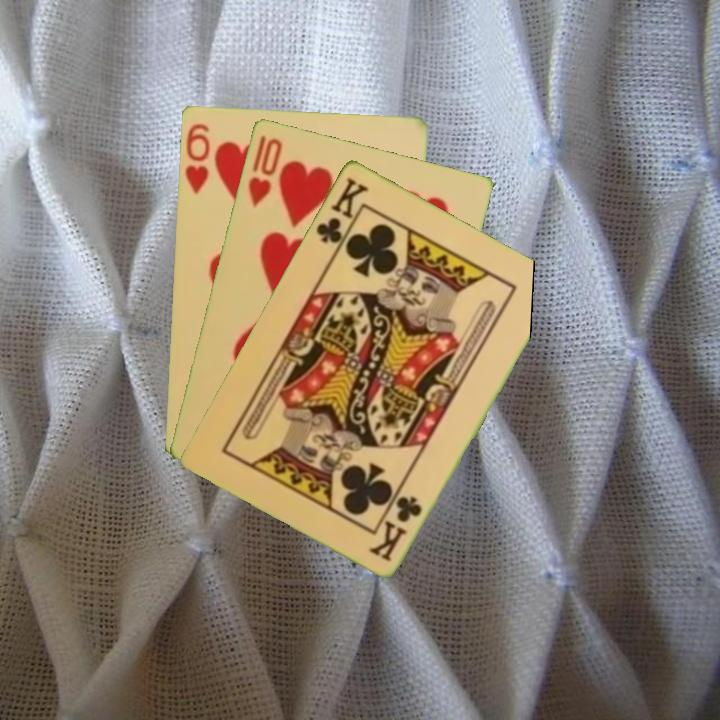10h: (244, 131, 285, 210)
6h: (181, 119, 213, 196)
Kc: (312, 173, 371, 256), (367, 491, 425, 564)
